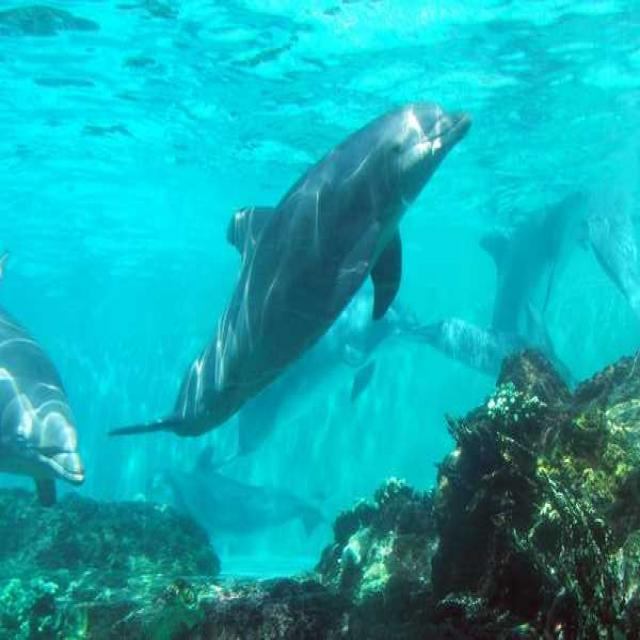dolphin: (113, 58, 466, 537)
